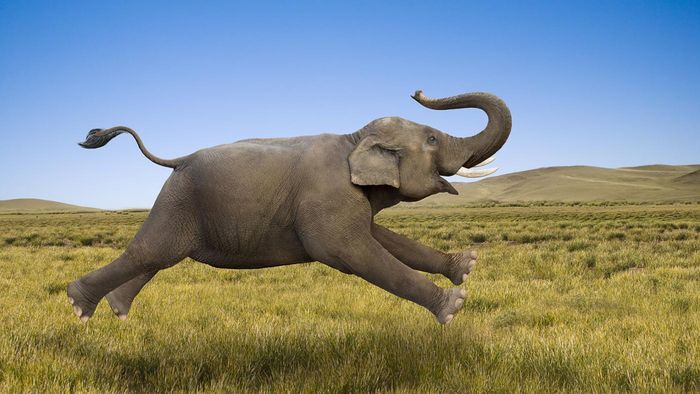elephant: (66, 90, 516, 323)
